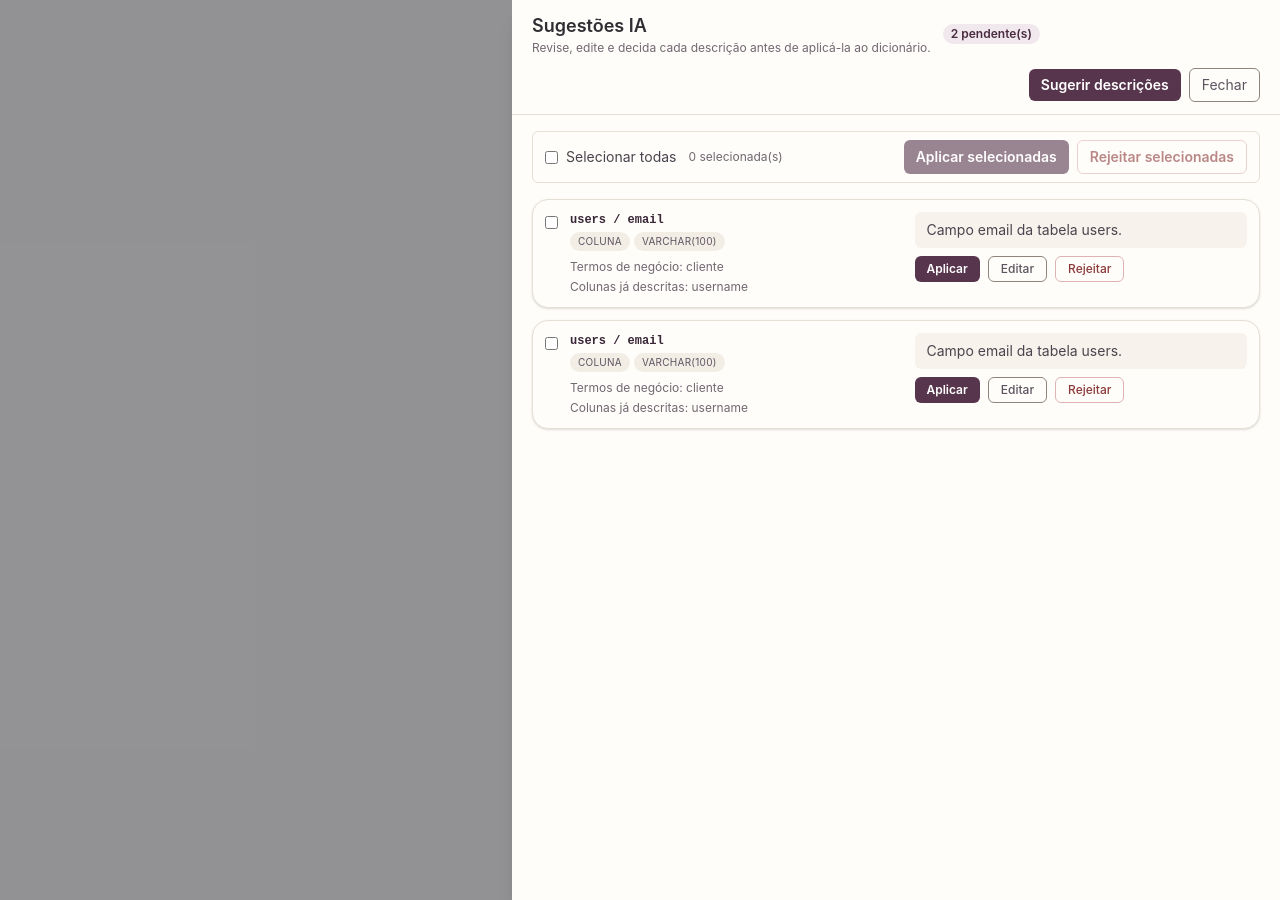
it: SuggestionPanel › ações em lote enviam os ids selecionados
Click the checkbox named "Selecionar todas as sugestões" at (552, 157), box [545,150,558,164]
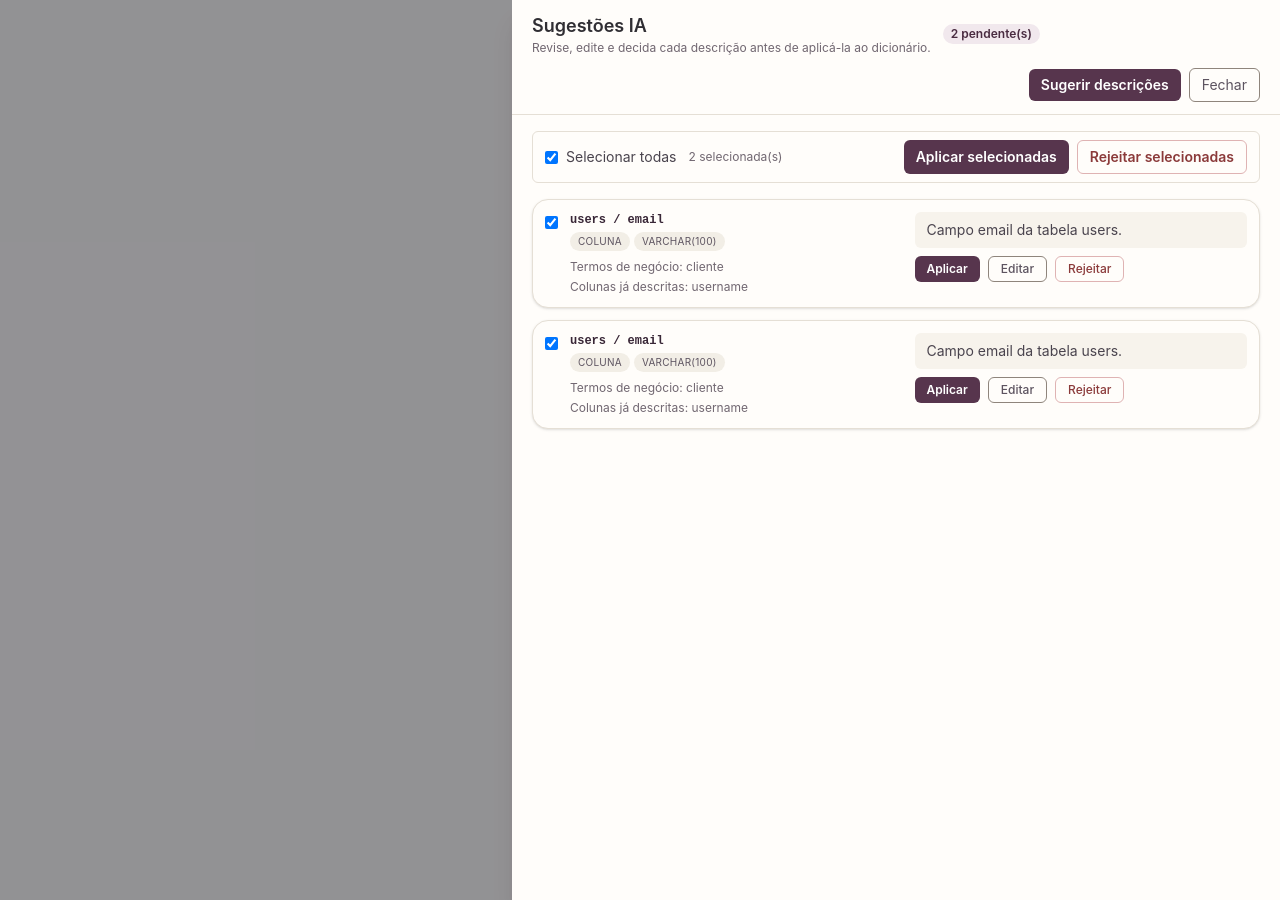
Click the button "Aplicar selecionadas" at (986, 157), box [904,140,1069,174]
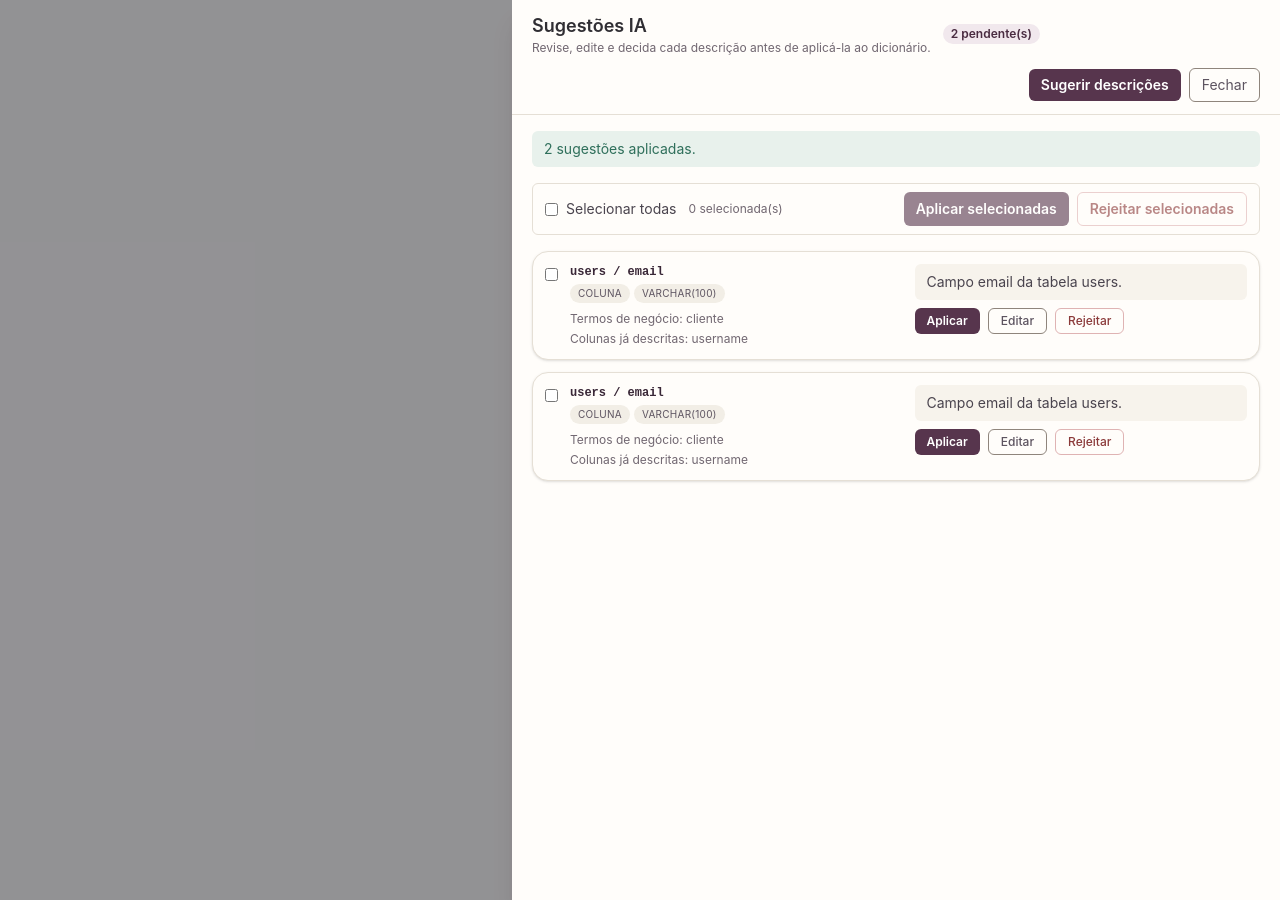
Expected: the text "2 sugestões aplicadas." is shown, [532,131,1260,167]
